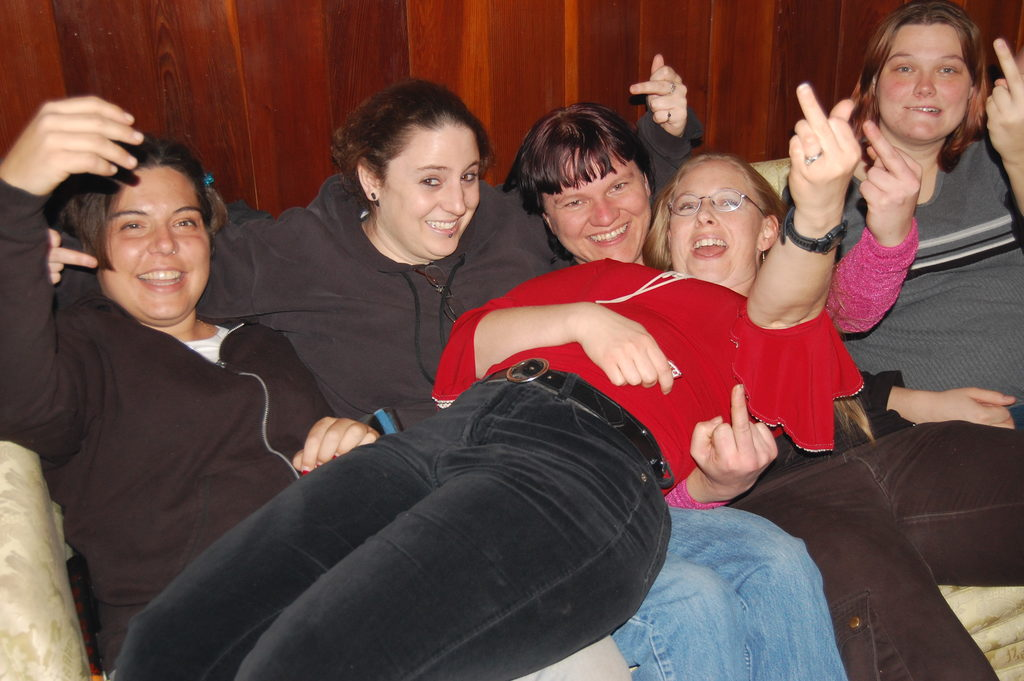Human_hand: (8, 92, 145, 193), (789, 82, 867, 218), (691, 385, 783, 498), (570, 301, 675, 396), (858, 117, 928, 245), (293, 414, 382, 479), (627, 57, 692, 137), (982, 36, 1023, 162), (904, 389, 1013, 431), (44, 229, 100, 288)
